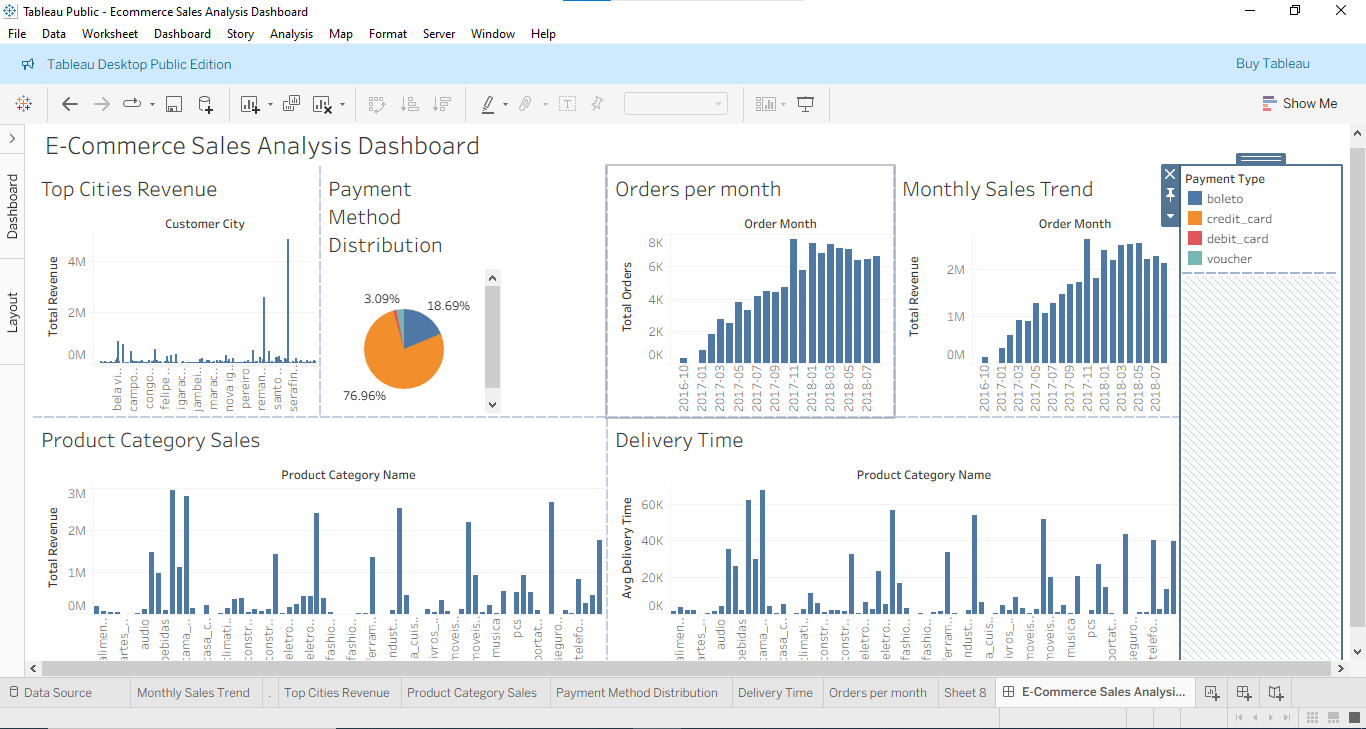

This screenshot's page, from the dashboard's own definition file:
{"tool":"tableau","page":{"name":" E-Commerce Sales Analysis Dashboard","canvas":[1000,1000],"units":"permille","ordinal":0},"visuals":[{"type":"title","box":[7,14.3,986,75]},{"type":"worksheet","title":"Top Cities Revenue","mark":"Automatic","rows":["Total_Revenue"],"cols":["customer_city"],"box":[7,89.3,211.4,448.2]},{"type":"worksheet","title":"Payment Method Distribution","mark":"Pie","box":[218.4,89.3,211.4,448.2]},{"type":"worksheet","title":"Orders per month","mark":"Automatic","rows":["Total_Orders"],"cols":["Order_Month"],"box":[429.8,89.3,211.4,448.2]},{"type":"worksheet","title":"Monthly Sales Trend","mark":"Automatic","rows":["Total_Revenue"],"cols":["Order_Month"],"box":[641.1,89.3,211.4,448.2]},{"type":"legend","title":"Payment Method Distribution","param":"[federated.0360tqx07iycbk155veyp17huafl].[none:payment_type:nk]","box":[852.5,89.3,140.5,189.3]},{"type":"worksheet","title":"Product Category Sales","mark":"Automatic","rows":["Total_Revenue"],"cols":["product_category_name"],"box":[7,537.5,422.7,448.2]},{"type":"worksheet","title":"Delivery Time","mark":"Automatic","rows":["Avg_Delivery_Time"],"cols":["product_category_name"],"box":[429.8,537.5,422.8,448.2]}]}

Visuals, with their boxes on the dashboard's canvas, which has no fixed pixel size, in thousandths of its width and height (x1, y1, x2, y2). These are canvas units, not pixel positions in the 1366x729 screenshot, which may show the page scaled, cropped or inside an application window:
title: select_region(7, 14, 993, 89)
"Top Cities Revenue" worksheet: select_region(7, 89, 218, 538)
"Payment Method Distribution" worksheet (Pie marks): select_region(218, 89, 430, 538)
"Orders per month" worksheet: select_region(430, 89, 641, 538)
"Monthly Sales Trend" worksheet: select_region(641, 89, 852, 538)
"Payment Method Distribution" legend: select_region(852, 89, 993, 279)
"Product Category Sales" worksheet: select_region(7, 538, 430, 986)
"Delivery Time" worksheet: select_region(430, 538, 853, 986)
